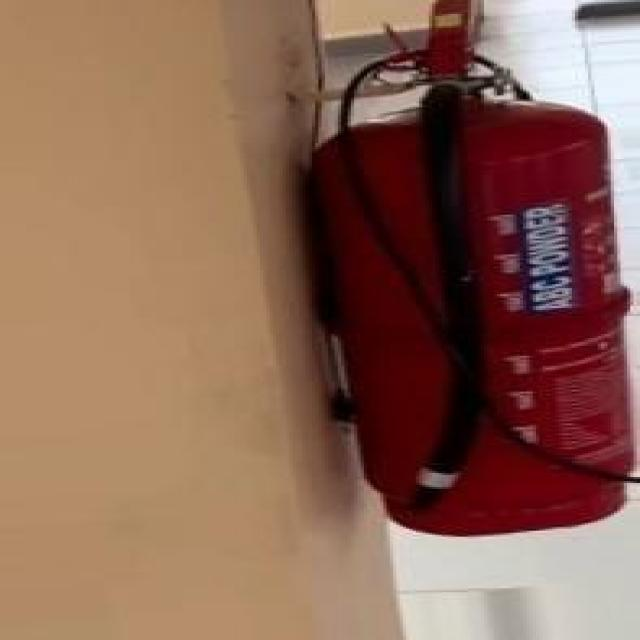fire_extinguisher: (296, 0, 636, 541)
